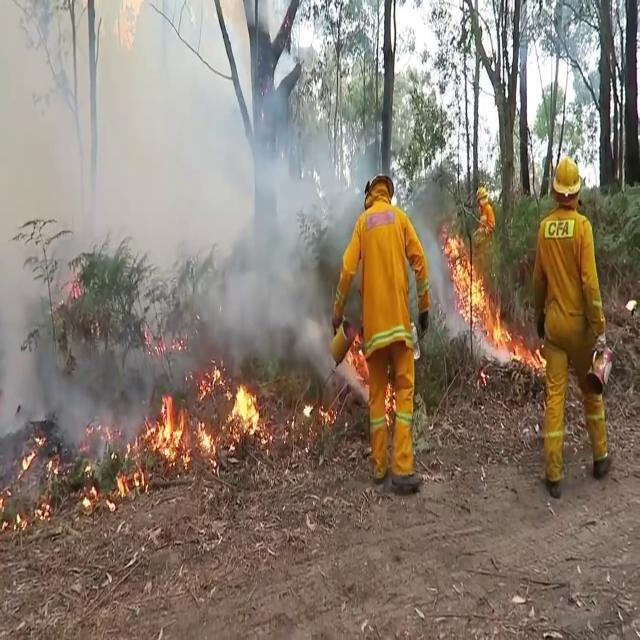Fire: (440, 230, 498, 357), (196, 357, 266, 457), (144, 390, 190, 466)
Smoke: (0, 9, 354, 392)
